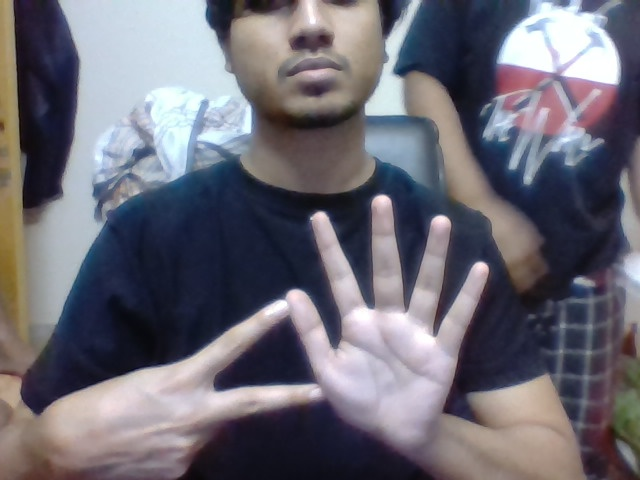N: (203, 294, 287, 426)
